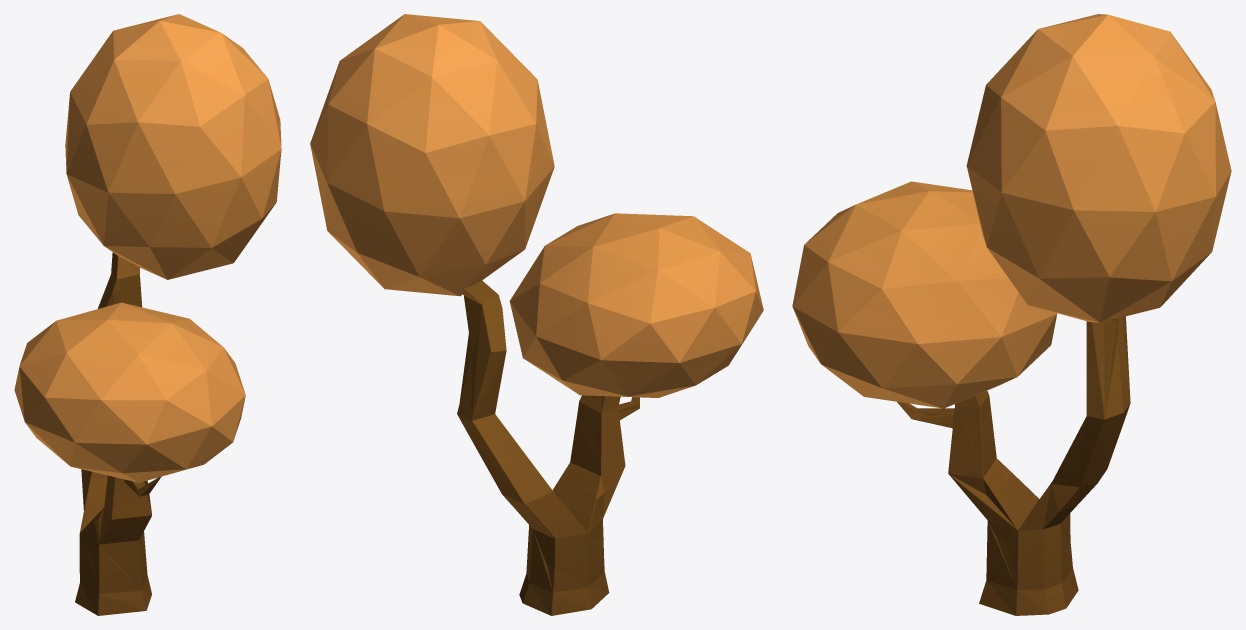
Rendered from tree_twin.glb.
3 renders of one model, left to right at view 1: azimuth 30°, elevation 25°; view 2: azimuth 150°, elevation 25°; view 3: azimuth 270°, elevation 25°, orthographic. The views are drawn at different scales.
Visible parts, largest first — view 1: tree_twin; view 2: tree_twin; view 3: tree_twin.
Boxes of the visible parts, <box> form: tree_twin: <box>14,14,281,615</box>; tree_twin: <box>310,14,763,615</box>; tree_twin: <box>792,14,1231,615</box>.
Bounding box in the file's own units: 2.03 × 3.3 × 2.09.
1 material, 1 textured.
